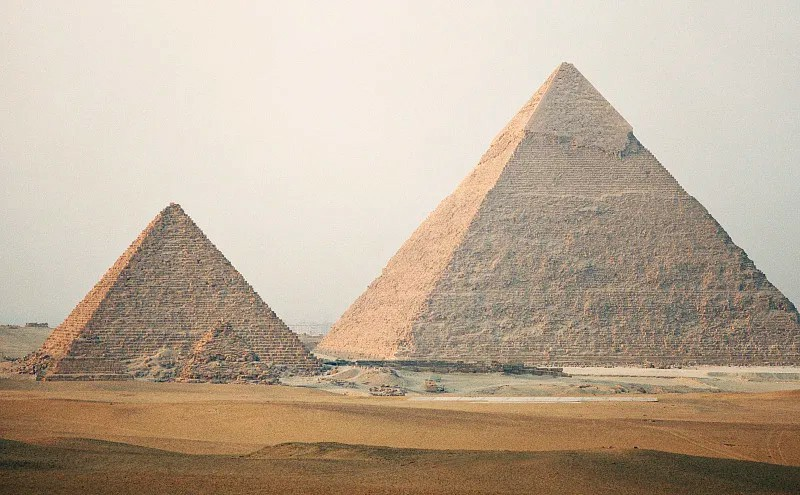Pyramid: (310, 61, 800, 366), (35, 203, 322, 365)
